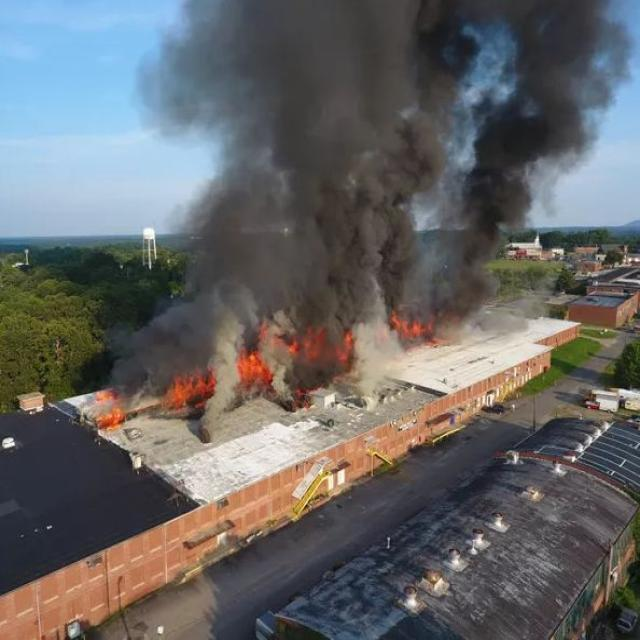Smoke: (102, 0, 640, 413)
